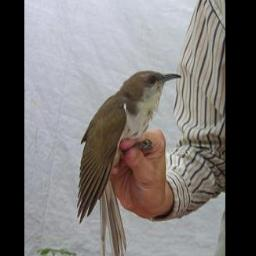Cuckoo: (79, 68, 183, 256)
